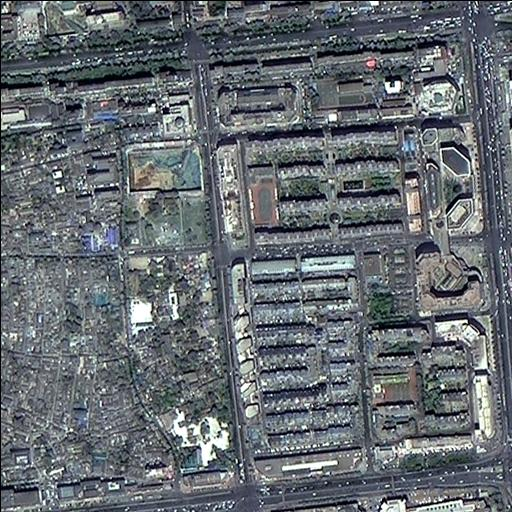school: (313, 69, 382, 109), (245, 159, 282, 229), (364, 361, 422, 405), (1, 97, 61, 129)
